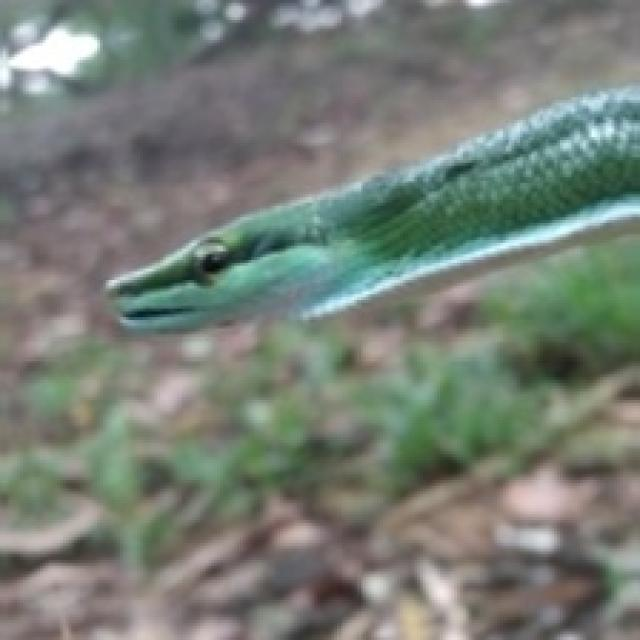red-tailed green ratsnake: (106, 89, 637, 329)
